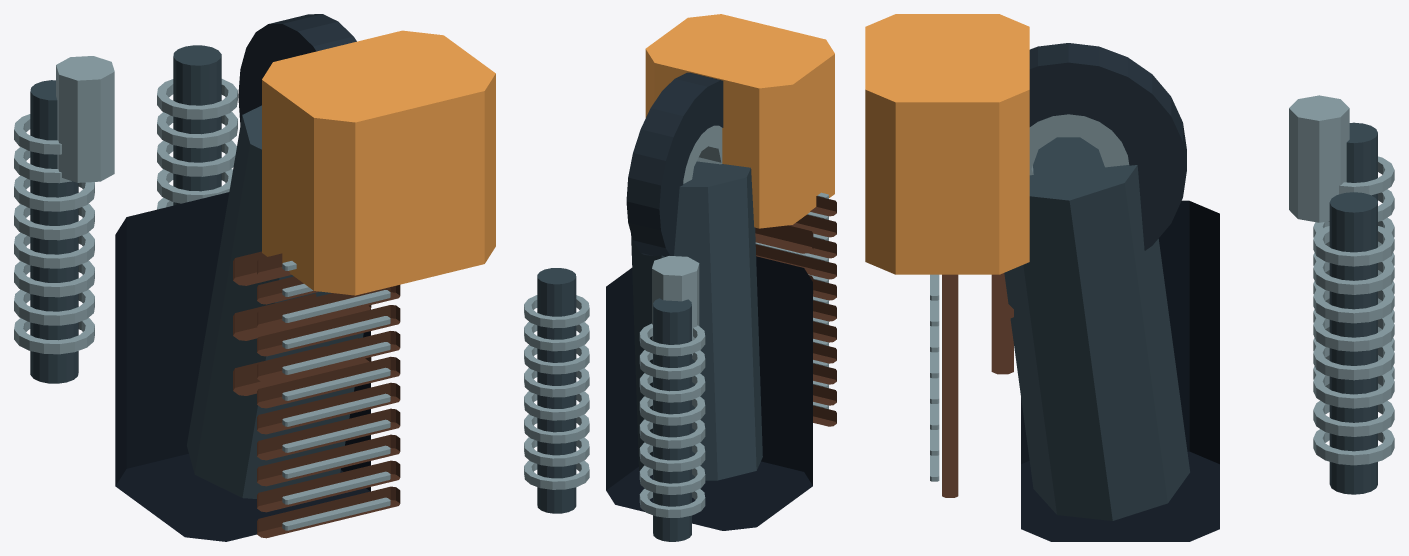
Rendered from enemy_runner_4k_shin_r.obj.
3 views of the same model, side by side, from view 1: azimuth 30°, elevation 25°; view 2: azimuth 150°, elevation 25°; view 3: azimuth 270°, elevation 25° (orthographic). The views are drawn at different scales.
Bounding box in the file's own units: 0.328 × 0.597 × 0.612.
